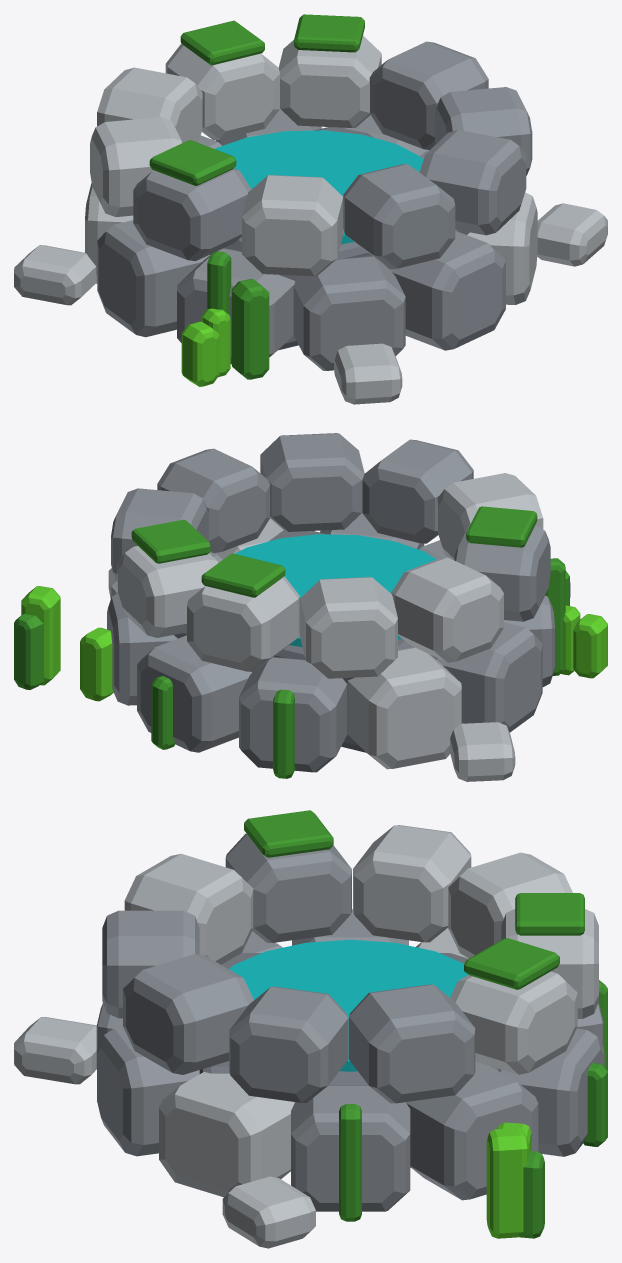
The model's file is DrownedVillage_Stone_Well.glb.
3 views of the same model, one above another, from view 1: azimuth 30°, elevation 25°; view 2: azimuth 150°, elevation 25°; view 3: azimuth 270°, elevation 25° (orthographic). The views are drawn at different scales.
Parts seen in each view (by area): view 1: well_stone_04, well_stone_03, well_stone_13, well_stone_14, well_stone_15, well_stone_12, well_water_01, well_stone_20, well_stone_06, well_stone_19, well_stone_18, well_stone_16 (+18 smaller); view 2: well_stone_07, well_stone_16, well_stone_08, well_stone_17, well_stone_12, well_stone_09, well_stone_18, well_stone_13, well_stone_06, well_water_01, well_stone_11, well_stone_19 (+20 smaller); view 3: well_stone_02, well_stone_20, well_stone_12, well_stone_11, well_stone_01, well_stone_16, well_water_01, well_stone_10, well_stone_19, well_stone_15, well_stone_14, well_stone_03 (+16 smaller).
Part boxes in pixels (x1=…): well_stone_04: x1=293, y1=256, x2=405, y2=370; well_stone_03: x1=386, y1=231, x2=505, y2=350; well_stone_13: x1=343, y1=164, x2=455, y2=268; well_stone_14: x1=242, y1=175, x2=343, y2=276; well_stone_15: x1=133, y1=168, x2=251, y2=261; well_stone_12: x1=419, y1=130, x2=526, y2=235; well_water_01: x1=215, y1=130, x2=423, y2=243; well_stone_20: x1=369, y1=41, x2=488, y2=149; well_stone_06: x1=97, y1=220, x2=209, y2=337; well_stone_19: x1=278, y1=35, x2=381, y2=127; well_stone_18: x1=165, y1=44, x2=279, y2=140; well_stone_16: x1=90, y1=117, x2=182, y2=216; well_stone_07: x1=347, y1=647, x2=461, y2=769; well_stone_16: x1=391, y1=557, x2=503, y2=662; well_stone_08: x1=239, y1=657, x2=347, y2=772; well_stone_17: x1=300, y1=577, x2=397, y2=678; well_stone_12: x1=260, y1=433, x2=364, y2=531; well_stone_09: x1=137, y1=635, x2=251, y2=752; well_stone_18: x1=187, y1=576, x2=299, y2=671; well_stone_13: x1=362, y1=439, x2=473, y2=543; well_stone_06: x1=431, y1=622, x2=542, y2=732; well_water_01: x1=235, y1=534, x2=436, y2=647; well_stone_11: x1=157, y1=448, x2=270, y2=552; well_stone_19: x1=117, y1=546, x2=217, y2=637; well_stone_02: x1=159, y1=1072, x2=294, y2=1197; well_stone_20: x1=349, y1=984, x2=475, y2=1103; well_stone_12: x1=123, y1=954, x2=253, y2=1074; well_stone_11: x1=229, y1=986, x2=348, y2=1102; well_stone_01: x1=291, y1=1085, x2=410, y2=1211; well_stone_16: x1=353, y1=825, x2=471, y2=942; well_water_01: x1=229, y1=939, x2=467, y2=1071; well_stone_10: x1=406, y1=1061, x2=538, y2=1200; well_stone_19: x1=450, y1=971, x2=577, y2=1074; well_stone_15: x1=225, y1=833, x2=351, y2=942; well_stone_14: x1=124, y1=853, x2=253, y2=964; well_stone_03: x1=97, y1=1027, x2=199, y2=1156.
Size of the model in its own units: 2.81 by 0.97 by 2.56.
